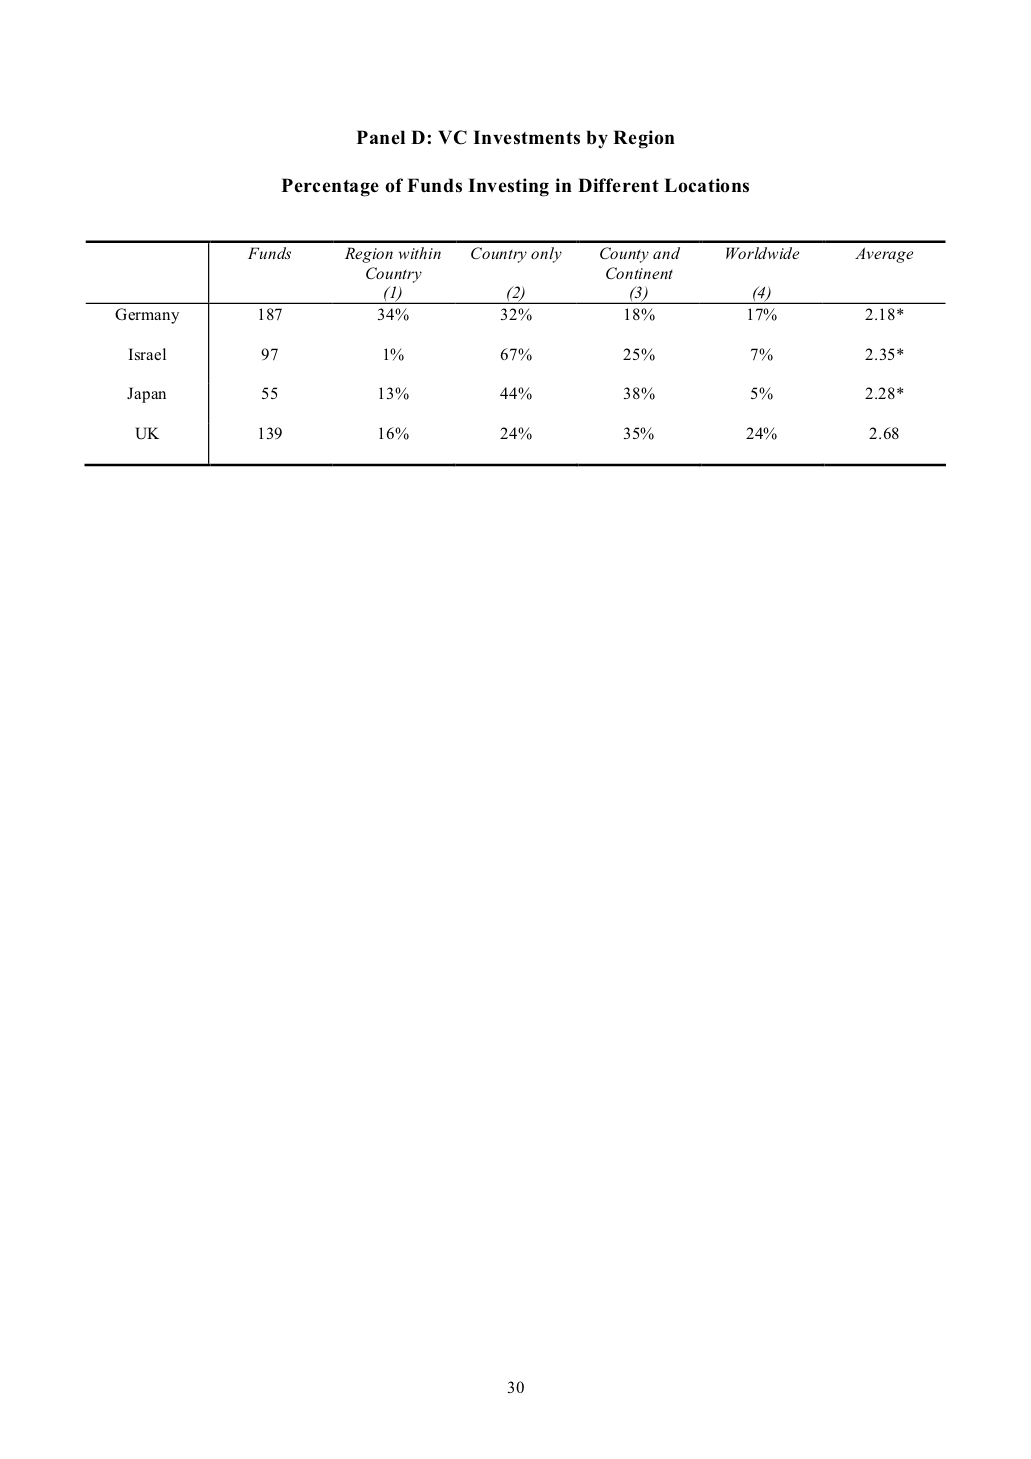Table: (84, 239, 945, 467)
